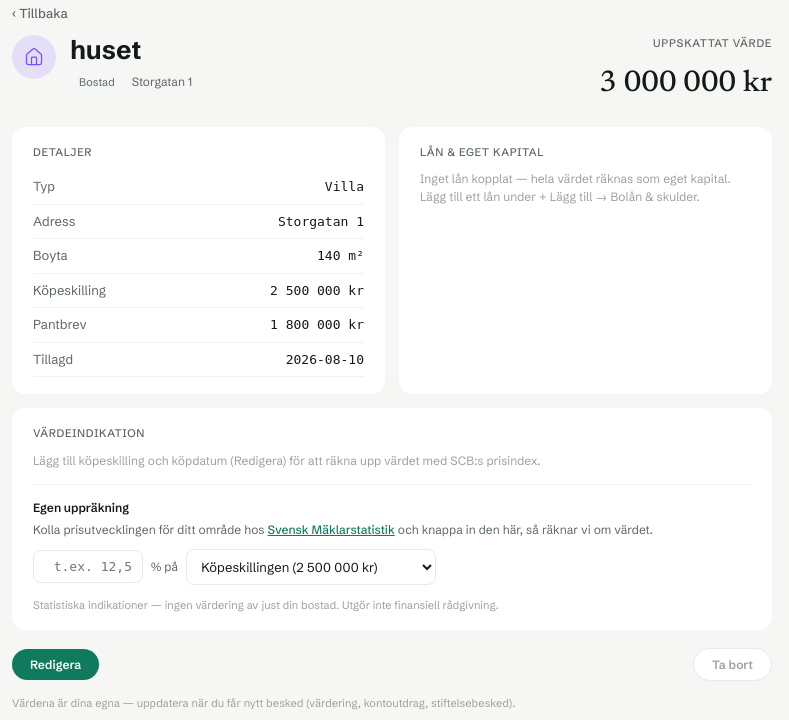
Test: ManualAssetView › Ägande-sektionen (familjeläge) › saves owners AND the mirrored ownershipShare (dual-write)
Click the button "Redigera" at (56, 664), box [12,649,99,680]
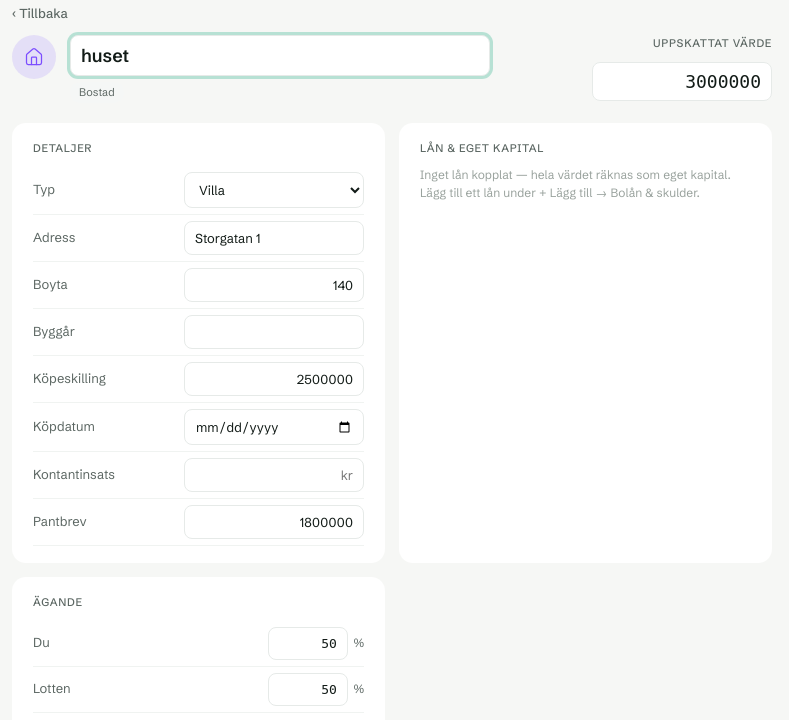
Replace the text in the field named "Ägarandel Du" with "60" at (308, 643), box [268,626,348,660]
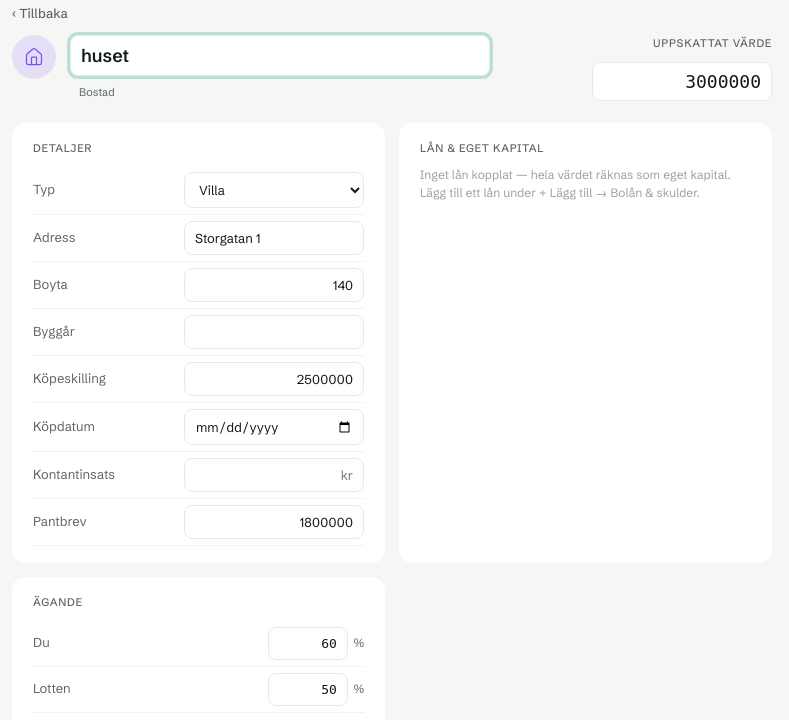
Replace the text in the field named "Ägarandel Lotten" with "40" at (308, 689), box [268,672,348,706]
(page scrolled)
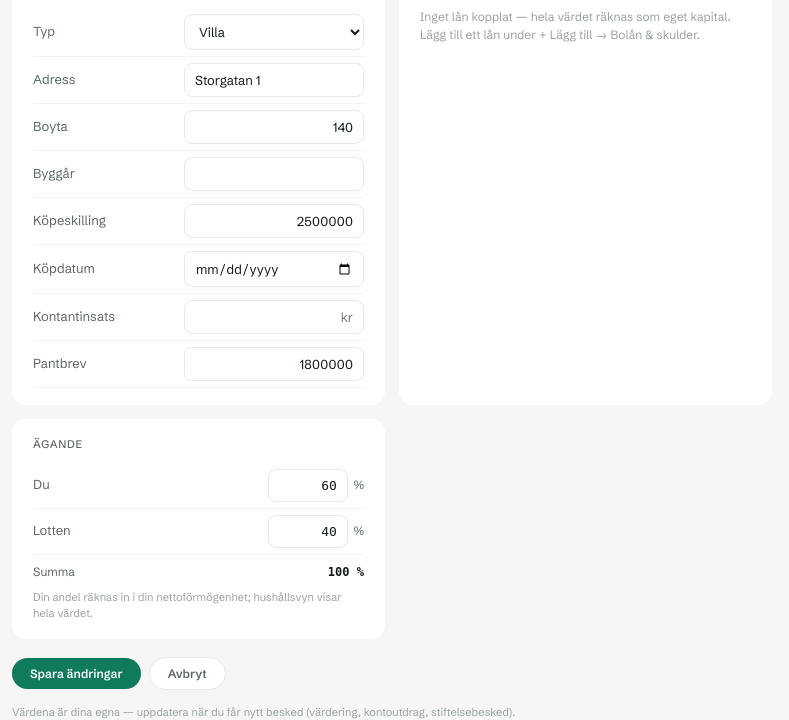
Click the button "Spara ändringar" at (76, 673), box [12,658,141,688]
(page scrolled)
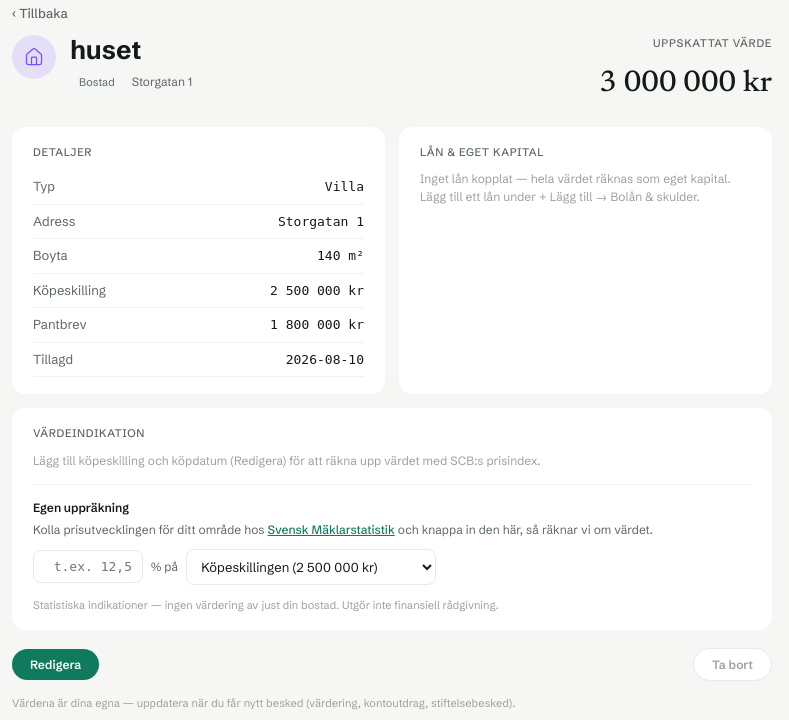
Result: the text "Storgatan 1" below "huset" is shown at [132,74,192,89]
